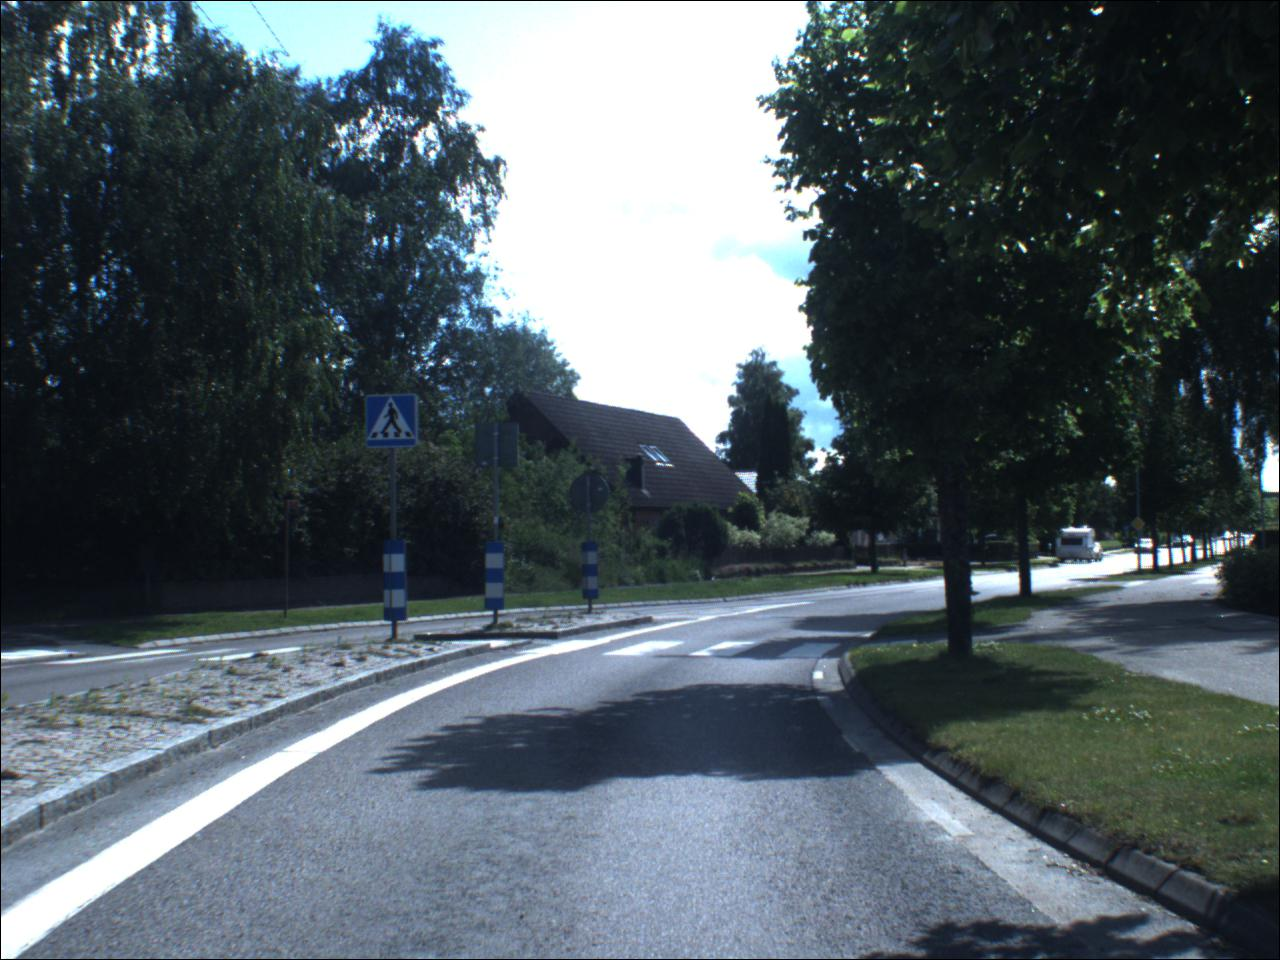PEDESTRIAN_CROSSING: (366, 397, 420, 450)
PRIORITY_ROAD: (1133, 518, 1149, 534)
